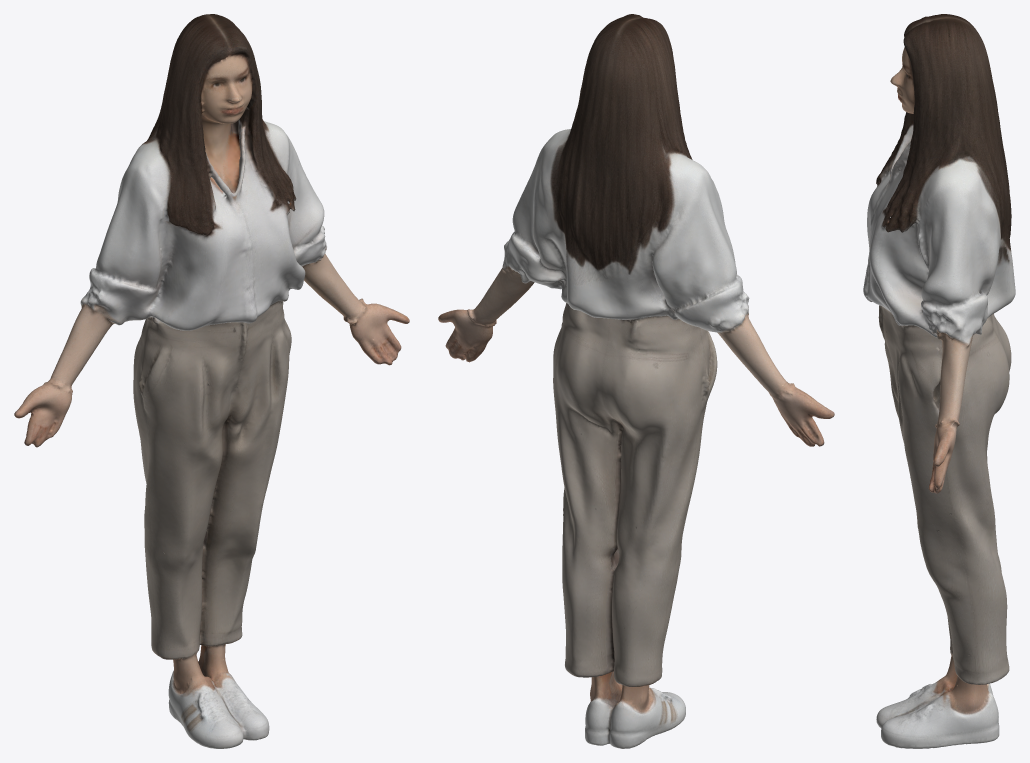
Rendered from player_game.glb.
The picture shows the model from 3 angles, left to right: view 1: azimuth 30°, elevation 25°; view 2: azimuth 150°, elevation 25°; view 3: azimuth 270°, elevation 25°; orthographic projection.
Bounding box in the file's own units: 1.17 × 2 × 0.3865.
Materials: 1 (1 with a texture image).
